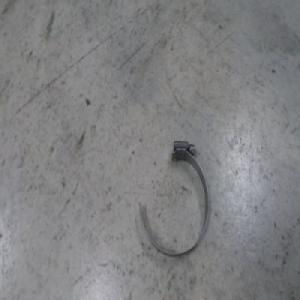AdjustableClamp: (138, 135, 208, 256)
